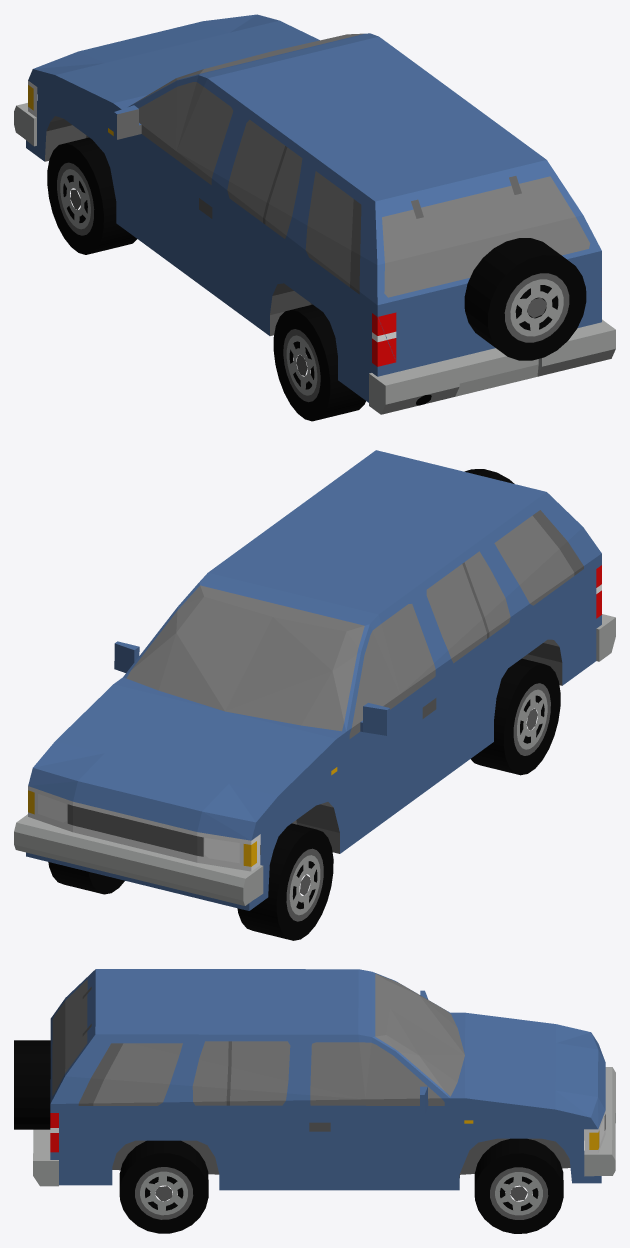
The model's file is patrol.glb.
3 views of the same model, one above another, from view 1: azimuth 30°, elevation 25°; view 2: azimuth 150°, elevation 25°; view 3: azimuth 270°, elevation 25° (orthographic). The views are drawn at different scales.
Visible parts, largest first — view 1: body:Color_I07, body:Color_M05, body:warna_bum, wm (×2), body:ban, body:_Color_M08_1, body:_Color_M05_1, body:rem; view 2: body:Color_I07, body:Color_M05, wm (×3), body:warna_bum, body:_Color_M08_1, body:Color_M01, body:lampu, body:_Color_M05_1; view 3: body:Color_I07, body:Color_M05, wm (×2), body:warna_bum, body:_Color_M08_1, body:ban, body:_Color_M05_1.
Boxes of the visible parts, box(x1,y1,x2,y2) form: body:Color_I07: box(26, 14, 601, 402); body:Color_M05: box(117, 33, 590, 297); body:warna_bum: box(14, 103, 615, 414); wm (×2): box(47, 137, 365, 421); body:ban: box(416, 238, 586, 405); body:_Color_M08_1: box(45, 116, 569, 402); body:_Color_M05_1: box(199, 146, 521, 294); body:rem: box(372, 312, 396, 366); body:Color_I07: box(26, 450, 601, 910); body:Color_M05: box(126, 515, 574, 738); wm (×3): box(48, 658, 560, 940); body:warna_bum: box(14, 614, 615, 915); body:_Color_M08_1: box(67, 639, 562, 921); body:Color_M01: box(28, 786, 260, 871); body:lampu: box(38, 794, 239, 863); body:_Color_M05_1: box(422, 510, 583, 718); body:Color_I07: box(50, 969, 605, 1190); body:Color_M05: box(52, 973, 464, 1105); wm (×2): box(119, 1138, 563, 1233); body:warna_bum: box(33, 1067, 615, 1215); body:_Color_M08_1: box(112, 1114, 605, 1219); body:ban: box(14, 1040, 50, 1129); body:_Color_M05_1: box(78, 987, 330, 1131).
Size of the model in its own units: 1.91 by 1.61 by 4.66.
